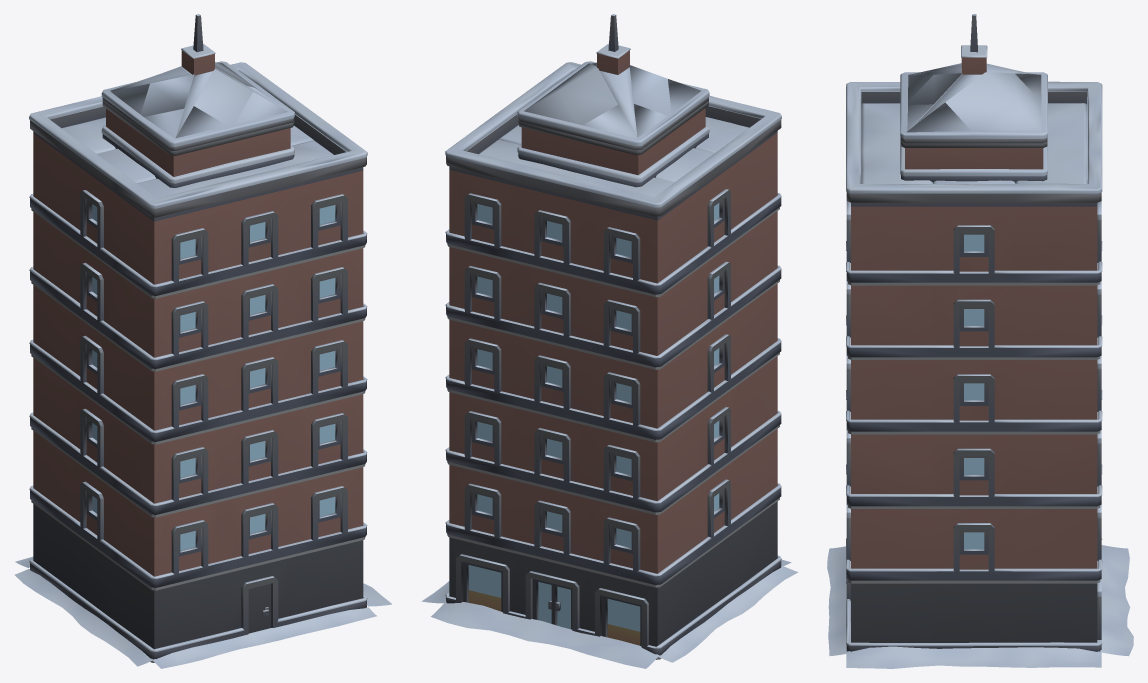
File: bldg_m.glb
The picture shows the model from 3 angles, left to right: view 1: azimuth 30°, elevation 25°; view 2: azimuth 150°, elevation 25°; view 3: azimuth 270°, elevation 25°; orthographic projection. The views are drawn at different scales.
Parts seen in each view (by area): view 1: Base, Roof; view 2: Base, Roof; view 3: Base, Roof.
Part boxes in pixels (<box>): Base: <box>14,62,391,668</box>; Roof: <box>101,14,294,150</box>; Base: <box>421,62,798,668</box>; Roof: <box>517,14,709,150</box>; Base: <box>827,81,1133,668</box>; Roof: <box>900,14,1047,143</box>.
Size of what is drawn, in the model's own units: 14.06 by 30.08 by 14.18.
